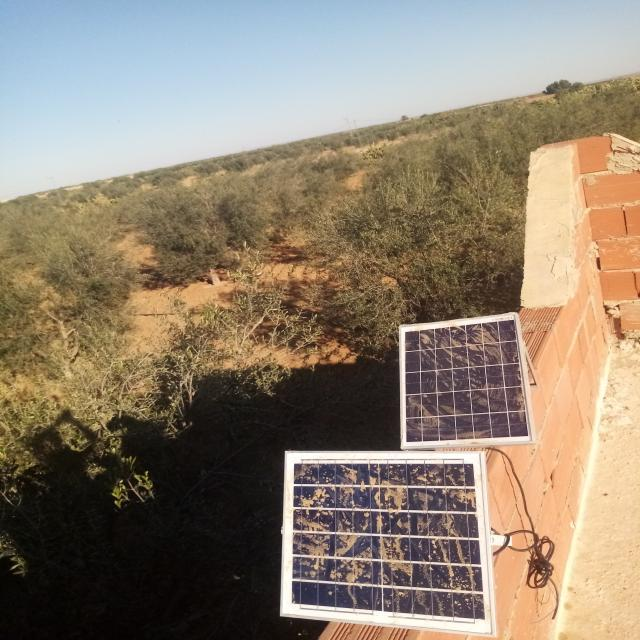faulty: (287, 452, 494, 634), (398, 315, 533, 451)
